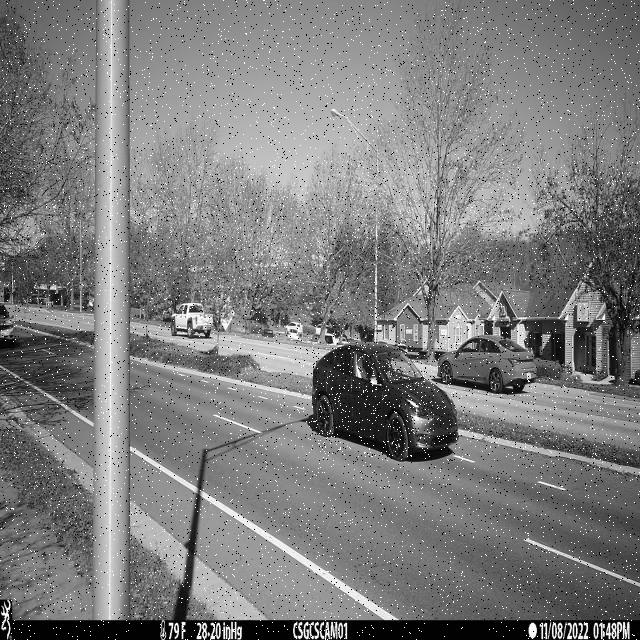SUV: (311, 342, 457, 461)
